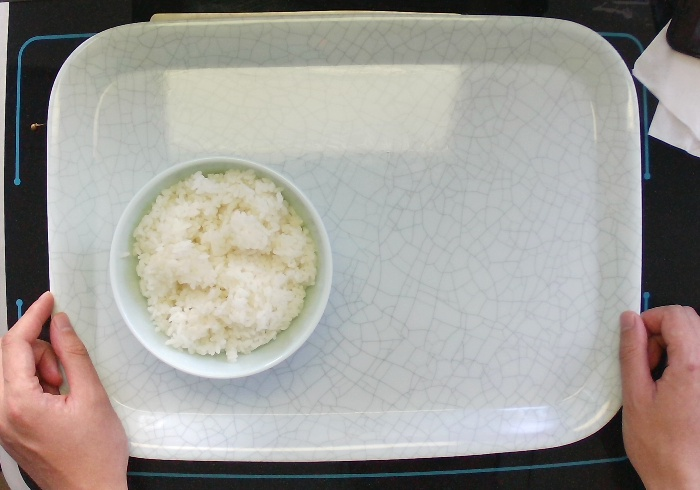JYsf-Fan_Wan: (105, 153, 333, 380)
